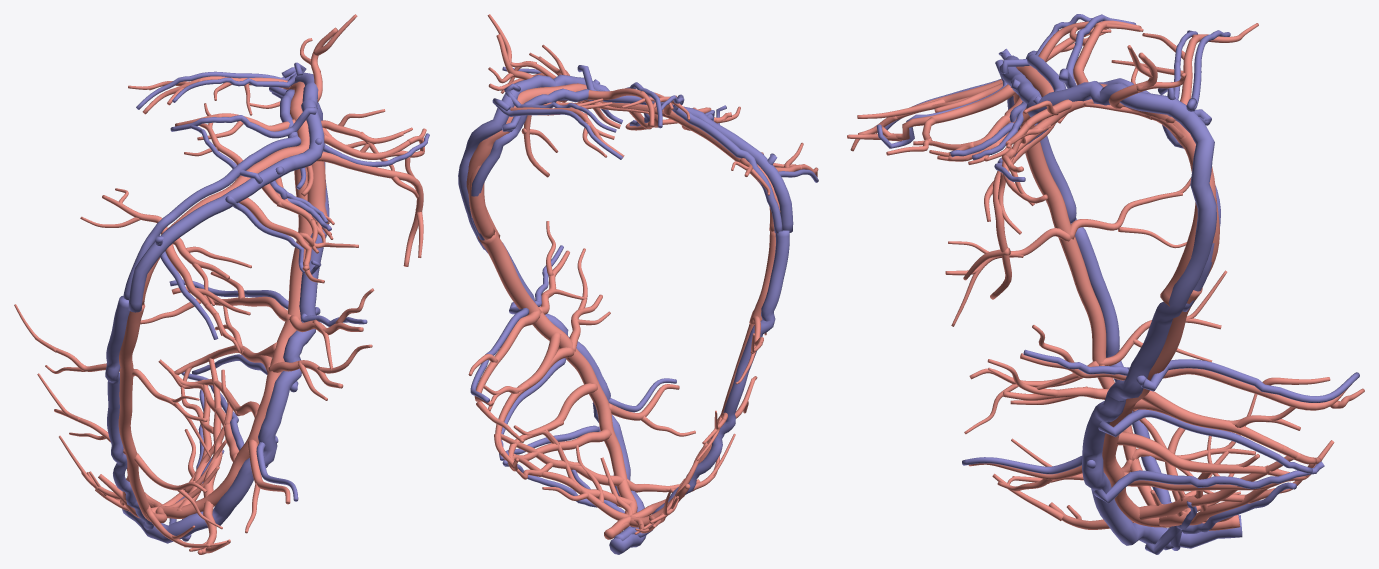
Rendered from vessels_39.glb.
3 renders of one model, left to right at view 1: azimuth 30°, elevation 25°; view 2: azimuth 150°, elevation 25°; view 3: azimuth 270°, elevation 25°, orthographic. The views are drawn at different scales.
Visible parts, largest first — view 1: Renderer Node; view 2: Renderer Node; view 3: Renderer Node.
Boxes of the visible parts, x1=… form: Renderer Node: x1=14, y1=14, x2=429, y2=554; Renderer Node: x1=458, y1=14, x2=818, y2=554; Renderer Node: x1=847, y1=14, x2=1364, y2=554.
Bounding box in the file's own units: 85.76 × 119 × 91.33.
